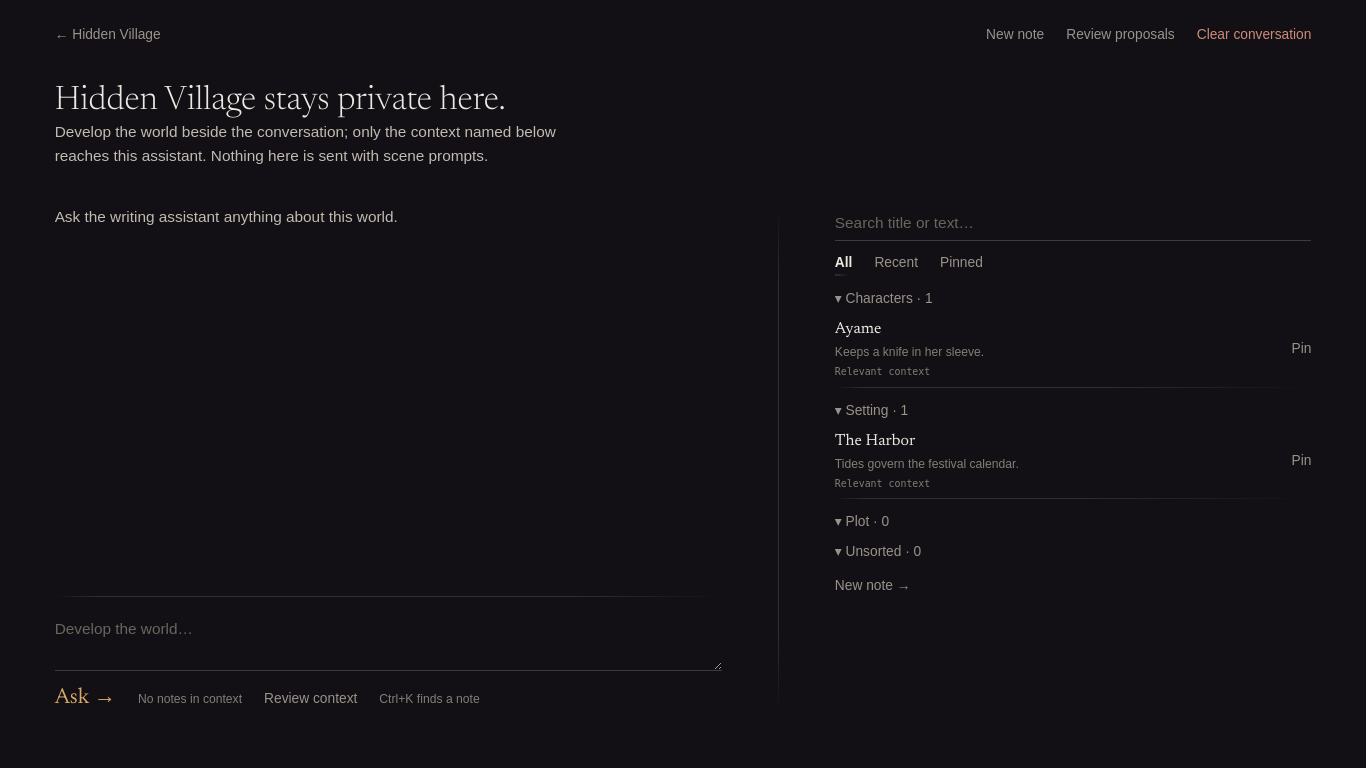
Test case: the private notes workspace › says when a search finds nothing
This screenshot has width=1366, height=768.
In the field named "Search notes": [1073, 223] box [835,205,1311,241], type "zzzz"
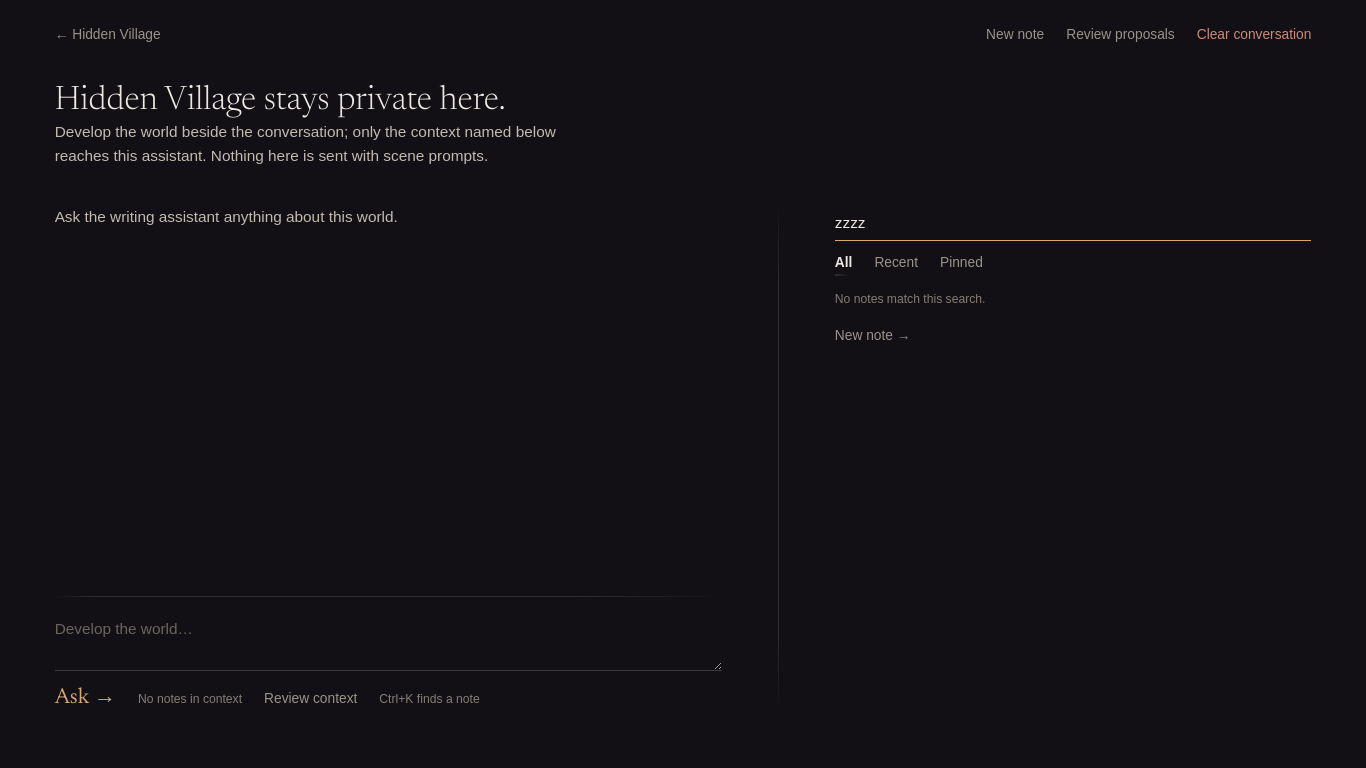
Expected: the text "No notes match this search." is shown, [835,292,986,306]
